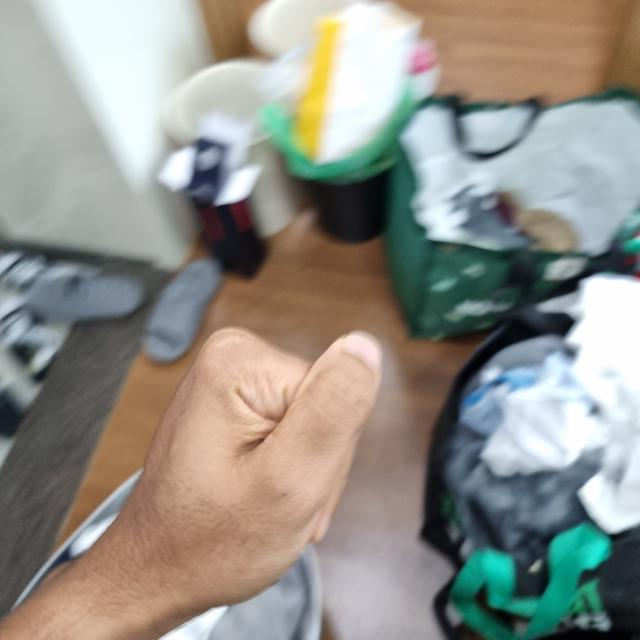Rock: (123, 329, 381, 608)
